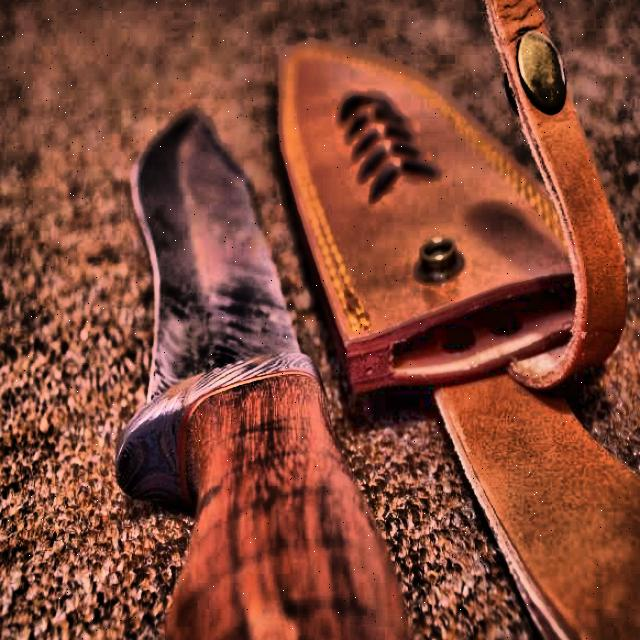knife: (114, 108, 419, 640)
